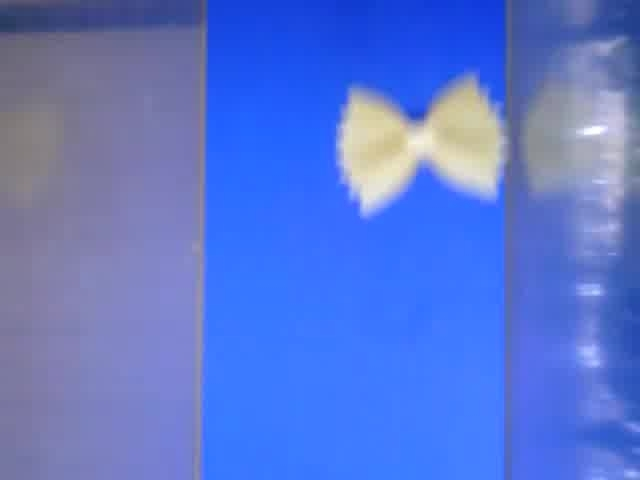farfalle: (336, 71, 507, 214)
